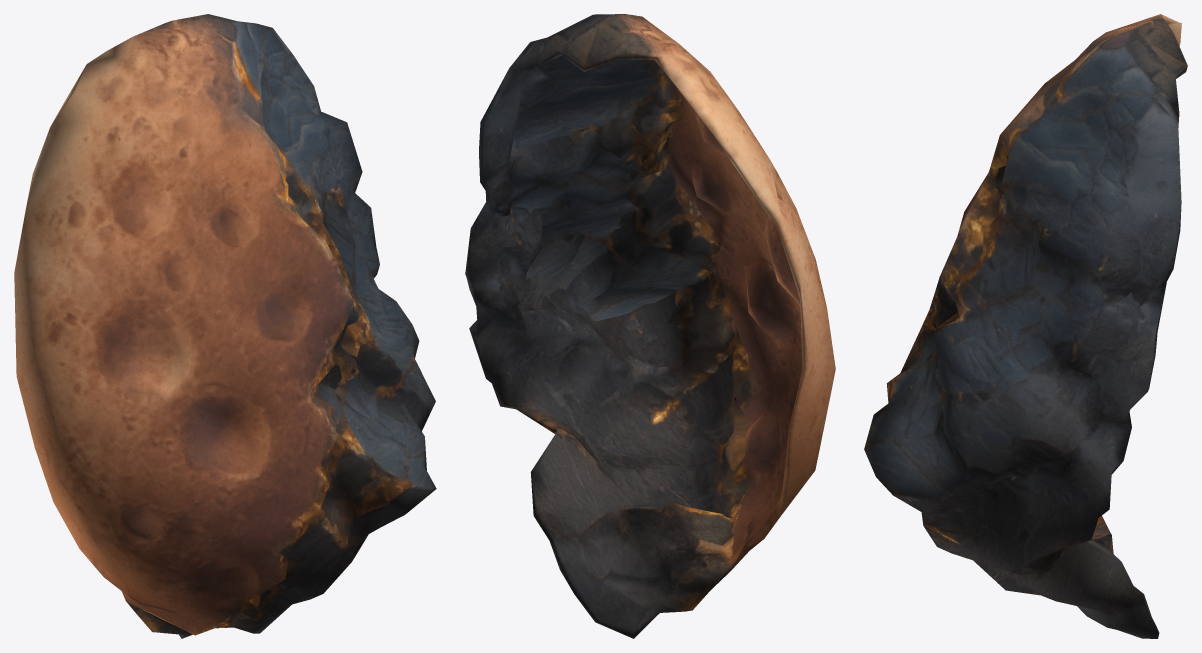
Rendered from moonstone.glb.
3 views of the same model, side by side, from view 1: azimuth 30°, elevation 25°; view 2: azimuth 150°, elevation 25°; view 3: azimuth 270°, elevation 25° (orthographic).
Visible parts, largest first — view 1: low; view 2: low; view 3: low.
Boxes of the visible parts, x1=… form: low: x1=14, y1=14, x2=436, y2=638; low: x1=465, y1=14, x2=835, y2=638; low: x1=864, y1=14, x2=1187, y2=638.
Size of the model in its own units: 2.4 by 4 by 1.89.
Materials: 1 (1 with a texture image).
